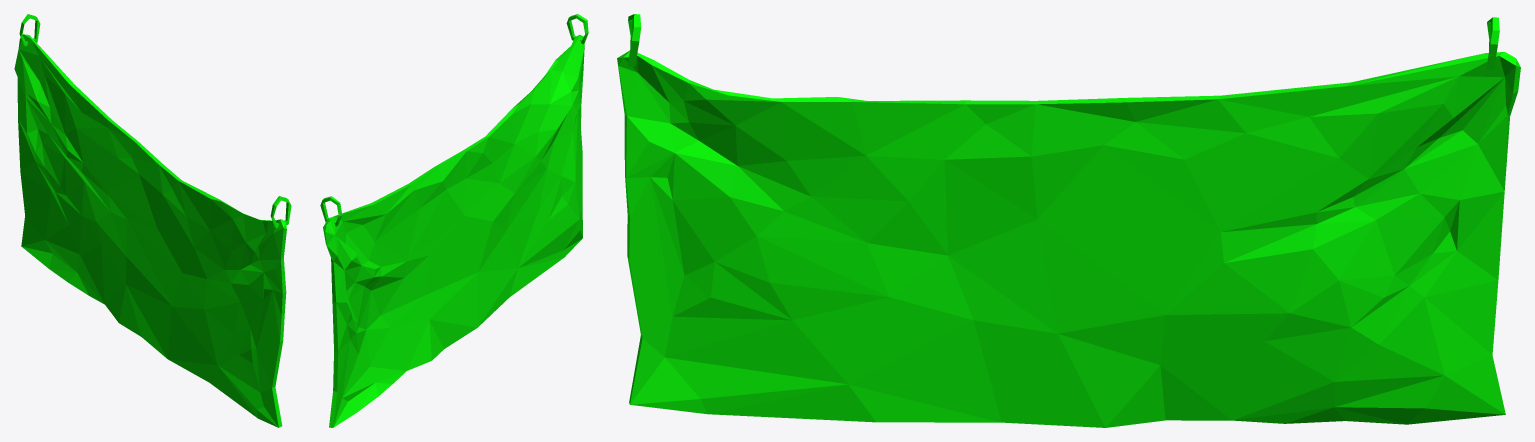
Rendered from SM_Market_Stall_Cloth_Wall_Long_Plain.fbx.
3 renders of one model, left to right at view 1: azimuth 30°, elevation 25°; view 2: azimuth 150°, elevation 25°; view 3: azimuth 270°, elevation 25°, orthographic. The views are drawn at different scales.
Parts seen in each view (by area): view 1: market-stall-cloth-wall-long-plain; view 2: market-stall-cloth-wall-long-plain; view 3: market-stall-cloth-wall-long-plain.
Boxes of the visible parts, bbox=[...] form: market-stall-cloth-wall-long-plain: bbox=[14, 14, 291, 427]; market-stall-cloth-wall-long-plain: bbox=[320, 14, 588, 427]; market-stall-cloth-wall-long-plain: bbox=[617, 14, 1520, 427].
Bounding box in the file's own units: 0.2511 × 2.32 × 4.61.
